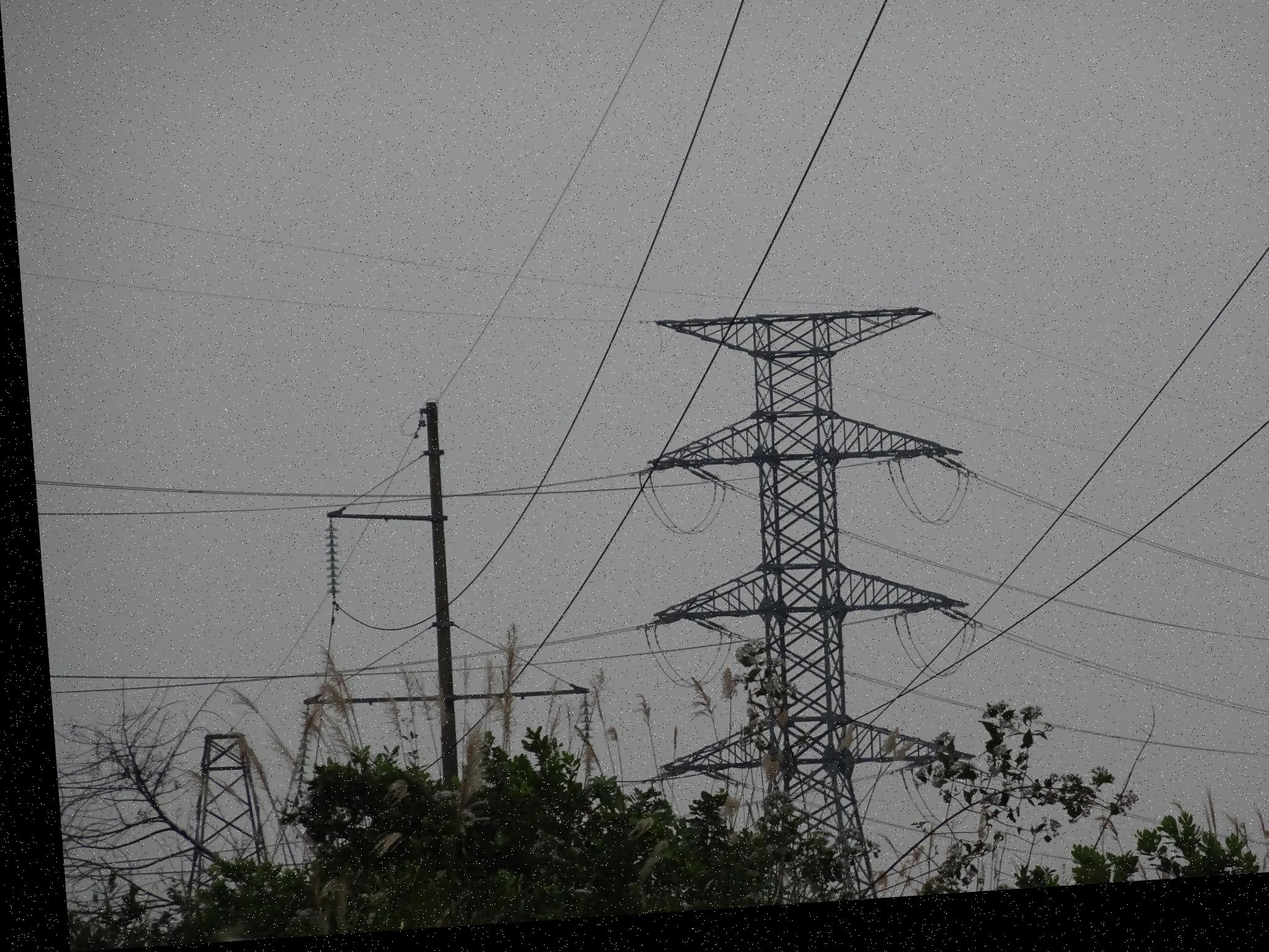tower: (615, 285, 1007, 913)
